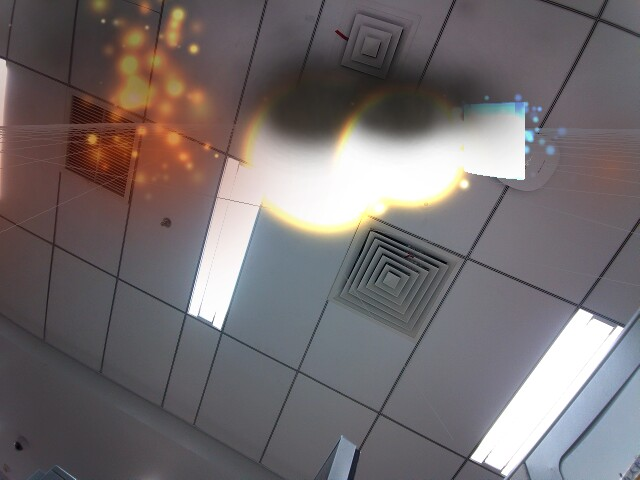fire: (241, 70, 385, 237), (348, 87, 470, 211)
